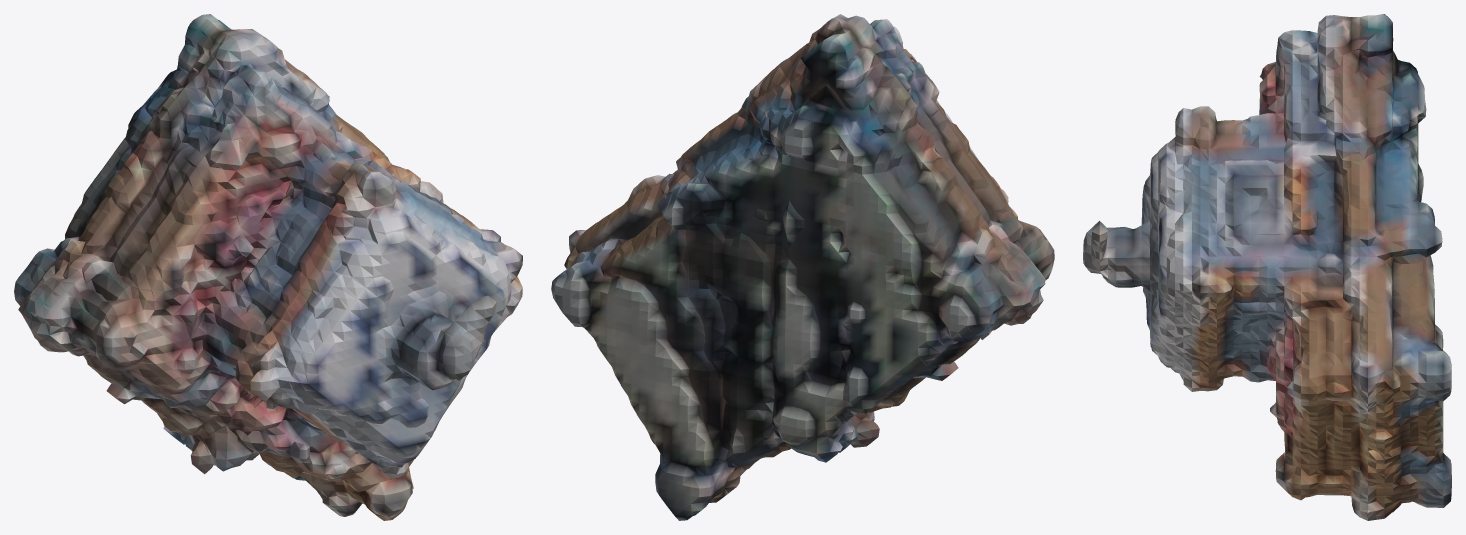
Rendered from T05_neural_owner_front_UNAPPROVED.glb.
3 views of the same model, side by side, from view 1: azimuth 30°, elevation 25°; view 2: azimuth 150°, elevation 25°; view 3: azimuth 270°, elevation 25° (orthographic). The views are drawn at different scales.
Visible parts, largest first — view 1: world; view 2: world; view 3: world.
Part boxes in pixels (box(x1,y1,x2,y2)): world: box(14, 14, 522, 520); world: box(551, 14, 1054, 520); world: box(1083, 14, 1451, 520).
Bounding box in the file's own units: 1.05 × 1.08 × 0.8051.
